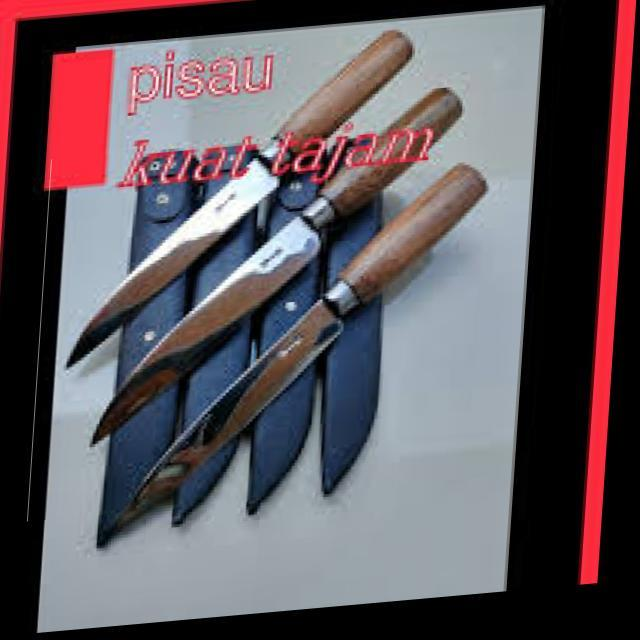knife: (91, 86, 464, 444), (128, 162, 490, 514), (65, 33, 413, 372)
